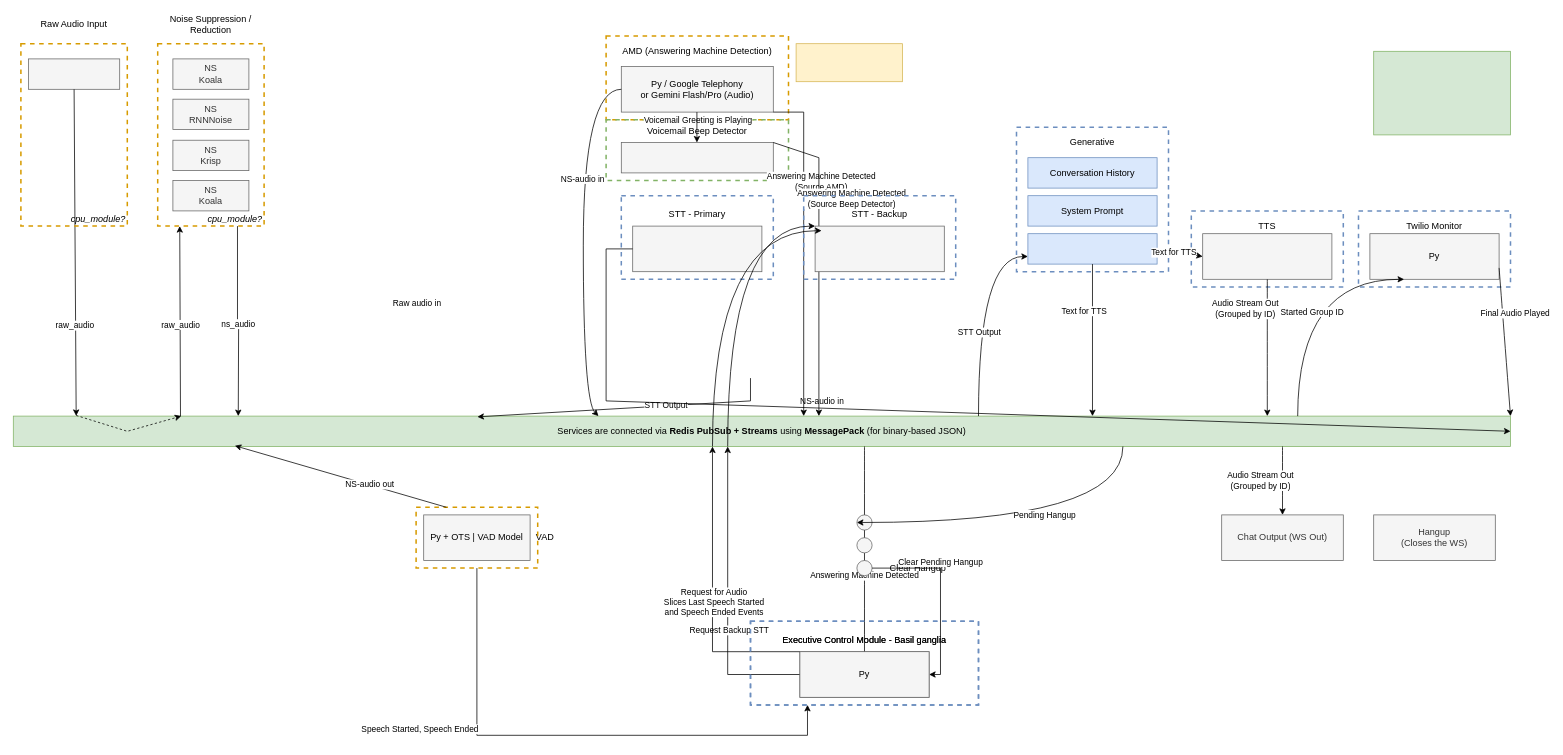
Image size: 1563x755. Some labels were removed from this diagram. Here are the shapes that lost their labels. From the top down, the centre of each, then its label:
At (74,73): "web_socket_in".
At (848,62): "NOTE: Latency can be as low as 150ms for this interaction (p95)".
At (1441,93): "Incoming: Backchanneling Feedback / Filler Words / Interjections".
At (697,157): "Python".
At (697,248): "Py / Google Telephony".
At (879,248): "Py / Google Telephony Short".
At (1092,248): "Py / Flash 2.5".
At (1267,256): "Py / Chirp-3 HD".
